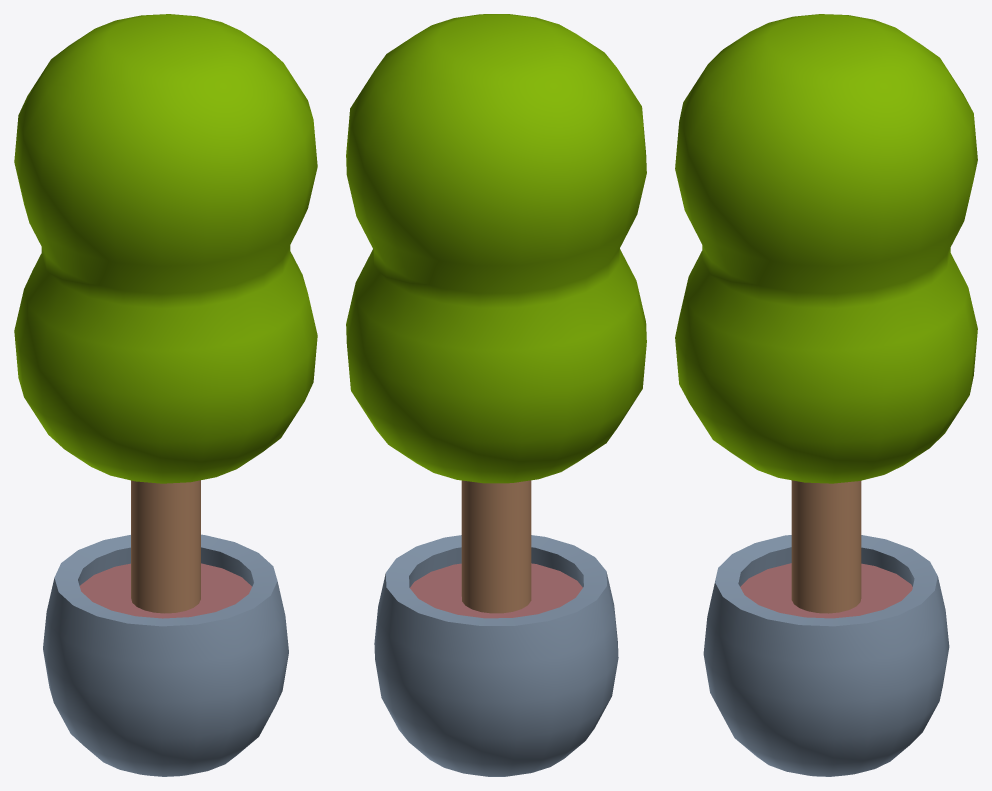
Rendered from Decoration_Plant2.glb.
3 views of the same model, side by side, from view 1: azimuth 30°, elevation 25°; view 2: azimuth 150°, elevation 25°; view 3: azimuth 270°, elevation 25° (orthographic).
Visible parts, largest first — view 1: Decoration_Plant2; view 2: Decoration_Plant2; view 3: Decoration_Plant2.
Boxes of the visible parts, left/top/right/bottom form: Decoration_Plant2: left=14, top=14, right=317, bottom=776; Decoration_Plant2: left=346, top=14, right=646, bottom=776; Decoration_Plant2: left=675, top=14, right=977, bottom=776.
Size of the model in its own units: 0.6965 by 1.82 by 0.6965.
Materials: 1 (1 with a texture image).
